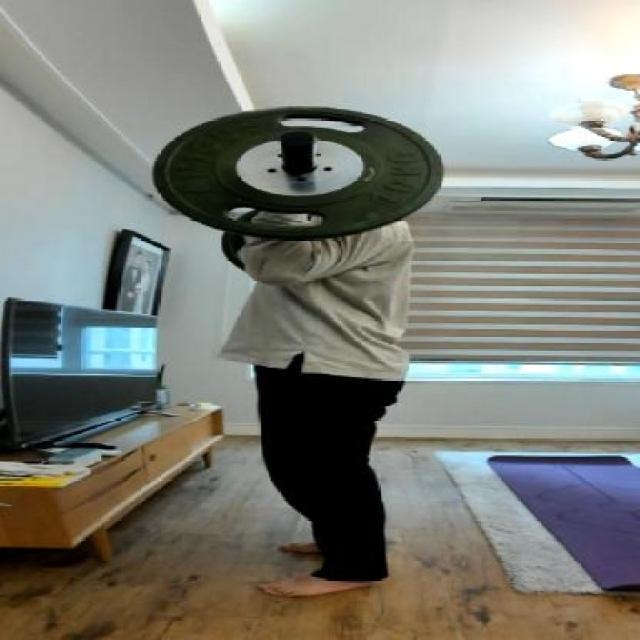Barbell: (278, 128, 320, 154)
